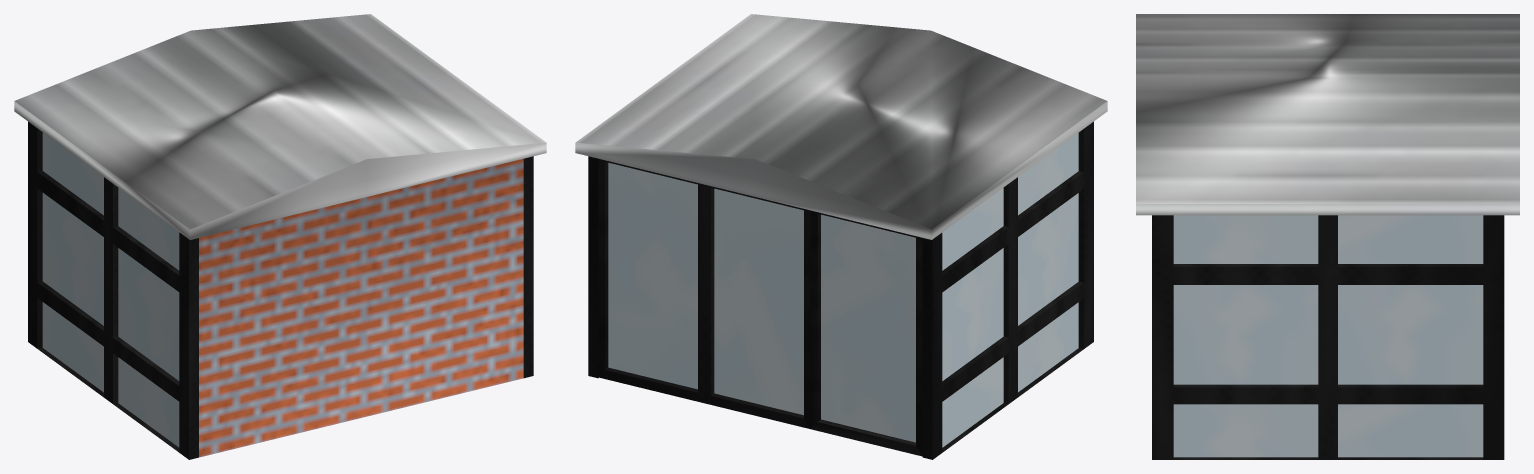
Rendered from espaço_liberdade.fbx.
The picture shows the model from 3 angles, left to right: view 1: azimuth 30°, elevation 25°; view 2: azimuth 150°, elevation 25°; view 3: azimuth 270°, elevation 25°; orthographic projection. The views are drawn at different scales.
Parts seen in each view (by area): view 1: Telhado Centro, TIJOLO, VIDRO 4, VIDRO 1; view 2: Telhado Centro, VIDRO 2, VIDRO 4, VIDRO 3, VIDRO 1; view 3: VIDRO 1, Telhado Centro.
Part boxes in pixels (x1=…): Telhado Centro: x1=14, y1=14, x2=546, y2=239; TIJOLO: x1=199, y1=159, x2=523, y2=457; VIDRO 4: x1=28, y1=121, x2=198, y2=459; VIDRO 1: x1=523, y1=156, x2=533, y2=378; Telhado Centro: x1=575, y1=14, x2=1107, y2=239; VIDRO 2: x1=598, y1=158, x2=810, y2=428; VIDRO 4: x1=922, y1=121, x2=1093, y2=459; VIDRO 3: x1=810, y1=210, x2=922, y2=456; VIDRO 1: x1=588, y1=156, x2=598, y2=378; VIDRO 1: x1=1152, y1=215, x2=1504, y2=459; Telhado Centro: x1=1136, y1=14, x2=1519, y2=215.
Size of the model in its own units: 12992 by 9213 by 11093.
